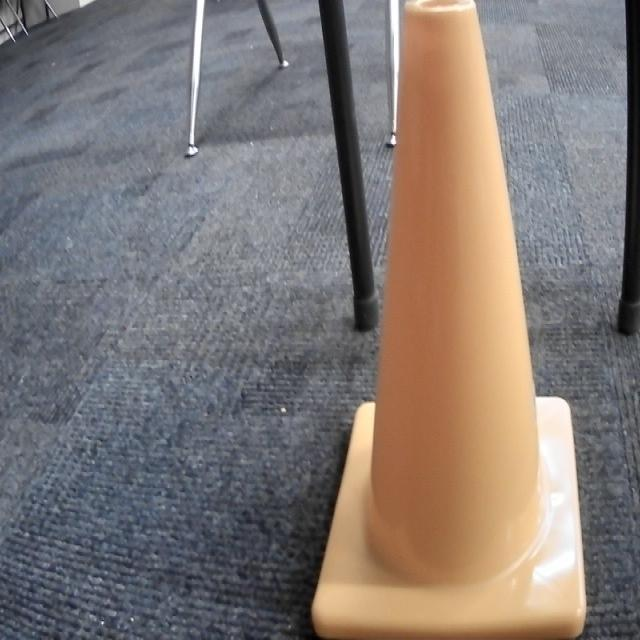cone: (296, 3, 593, 640)
